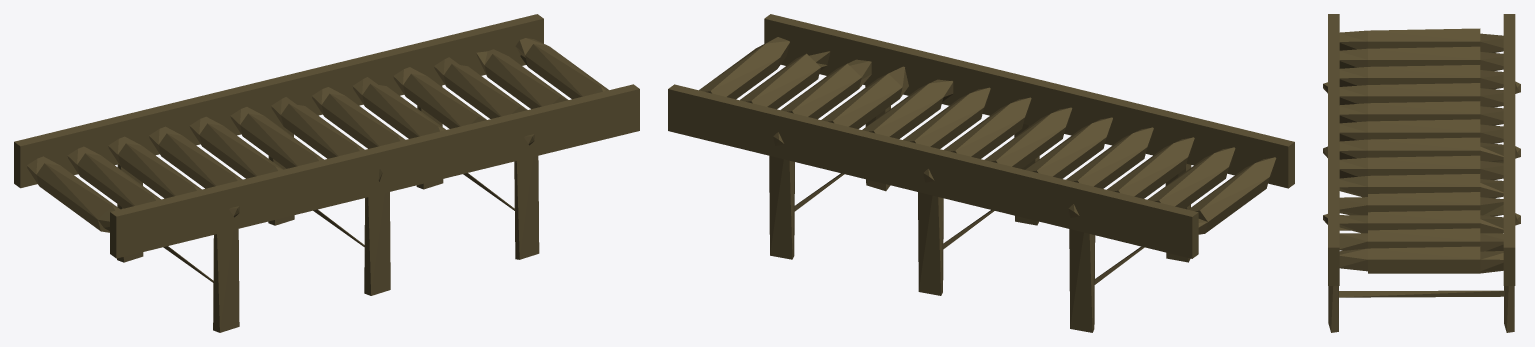
File: ew-roller.lod0.glb
3 views of the same model, side by side, from view 1: azimuth 30°, elevation 25°; view 2: azimuth 150°, elevation 25°; view 3: azimuth 270°, elevation 25° (orthographic). The views are drawn at different scales.
Visible parts, largest first — view 1: Conveyor_roller_1:Conveyor_roller_1_lambert1_0; view 2: Conveyor_roller_1:Conveyor_roller_1_lambert1_0; view 3: Conveyor_roller_1:Conveyor_roller_1_lambert1_0.
Part boxes in pixels (box(x1,y1,x2,y2)): Conveyor_roller_1:Conveyor_roller_1_lambert1_0: box(14, 14, 639, 332); Conveyor_roller_1:Conveyor_roller_1_lambert1_0: box(668, 14, 1294, 332); Conveyor_roller_1:Conveyor_roller_1_lambert1_0: box(1323, 14, 1520, 332).
Size of the model in its own units: 3 by 0.7911 by 1.07.
